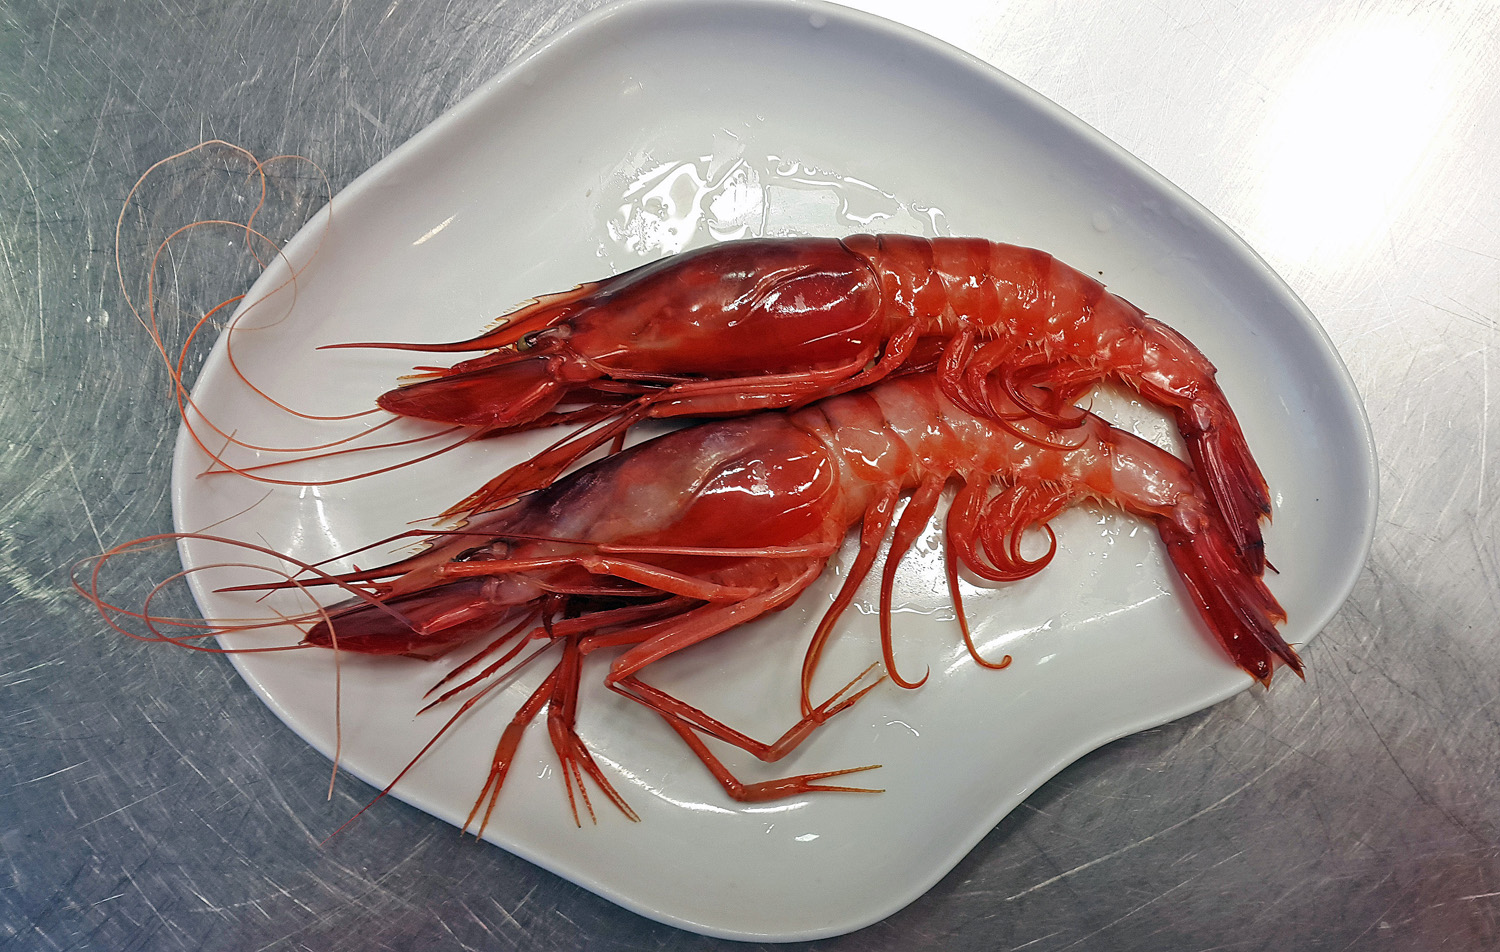Red Prawn: (297, 371, 1310, 679), (360, 230, 1266, 408)
